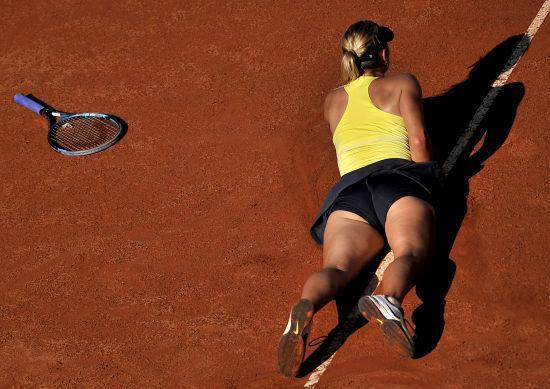Fall-Detected: (263, 12, 463, 374)
